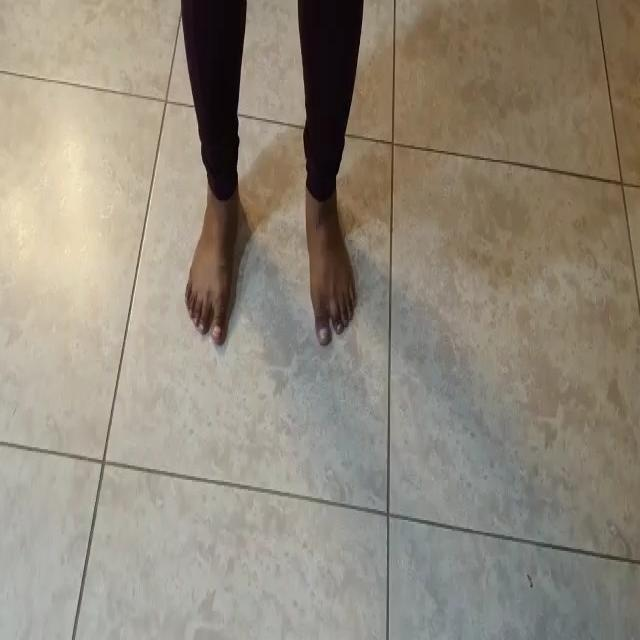no-boots: (179, 172, 252, 351), (302, 174, 362, 352)
